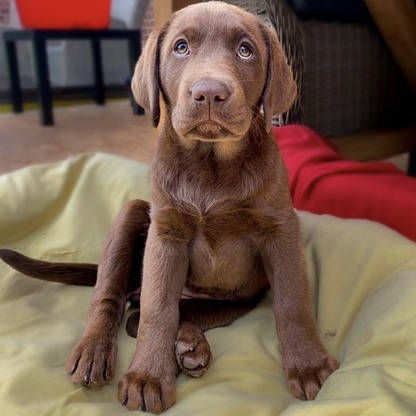labrado: (61, 1, 349, 416)
